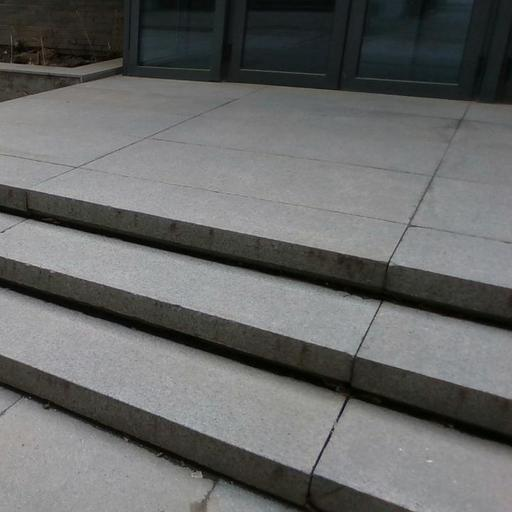stairs: (0, 214, 511, 511)
